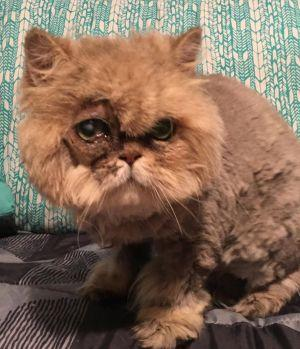persian: (4, 24, 227, 221)
